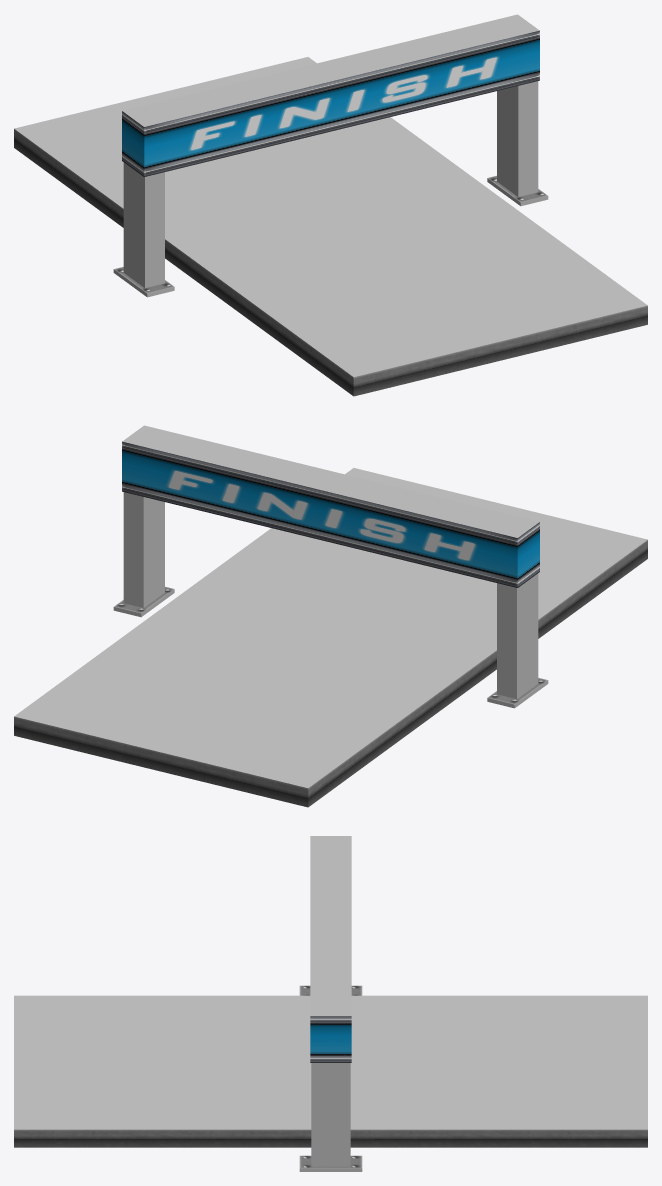
Rendered from Finish.fbx.
3 views of the same model, one above another, from view 1: azimuth 30°, elevation 25°; view 2: azimuth 150°, elevation 25°; view 3: azimuth 270°, elevation 25° (orthographic). The views are drawn at different scales.
Parts seen in each view (by area): view 1: Empty_Mesh; view 2: Empty_Mesh; view 3: Empty_Mesh.
Part boxes in pixels (<box>): Empty_Mesh: <box>14,14,647,396</box>; Empty_Mesh: <box>14,425,647,807</box>; Empty_Mesh: <box>14,836,647,1171</box>.
Bounding box in the file's own units: 2180 × 860 × 3200.
